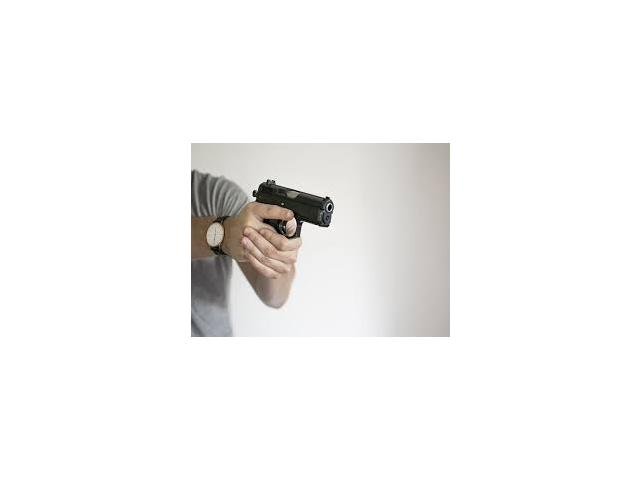pistol: (246, 180, 333, 270)
